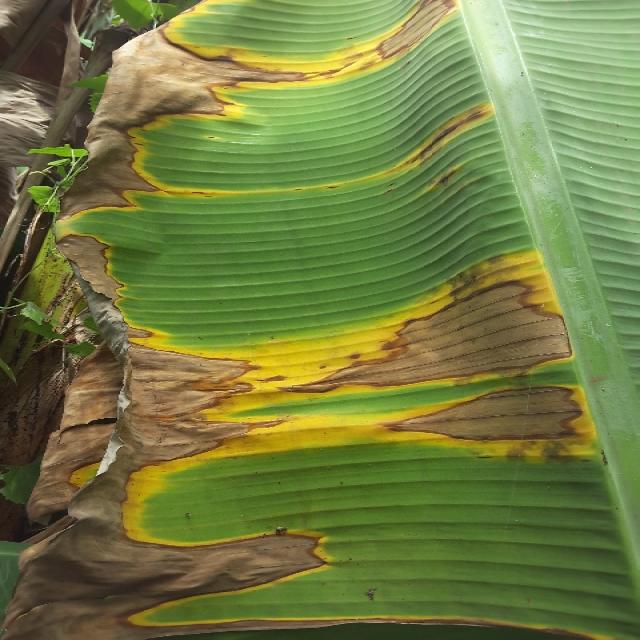Bract_mosaic_virus: (0, 0, 75, 228)
Cordana: (85, 0, 580, 640), (55, 439, 124, 491)
